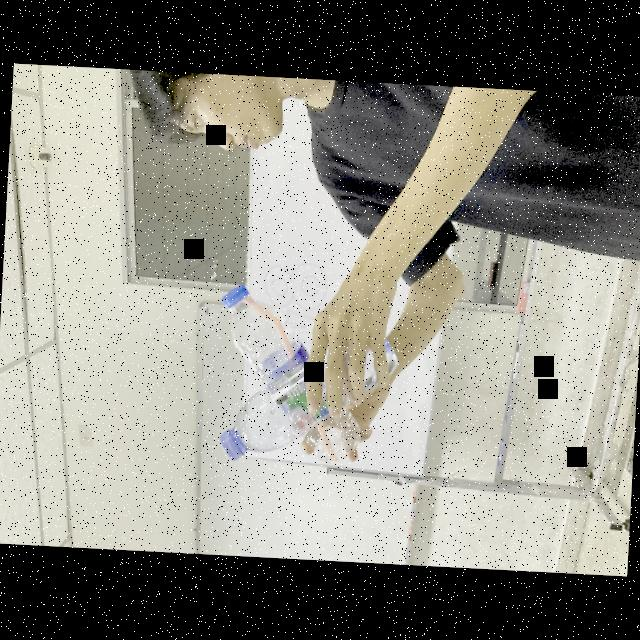plastic_bottle: (215, 316, 403, 468), (213, 284, 357, 466)
plastic_bottle_cap: (216, 430, 246, 460), (220, 284, 248, 308)
